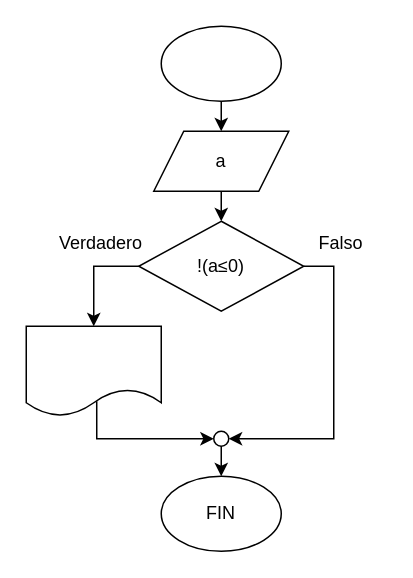
The diagram is 413 pixels wide and 578 high, and some of its shapes have lost their labels. Here are the shapes that lost their labels. From the top down, the box of each, then its label:
(160, 25, 281, 101): INICIO
(25, 325, 161, 416): a es un número positivo
